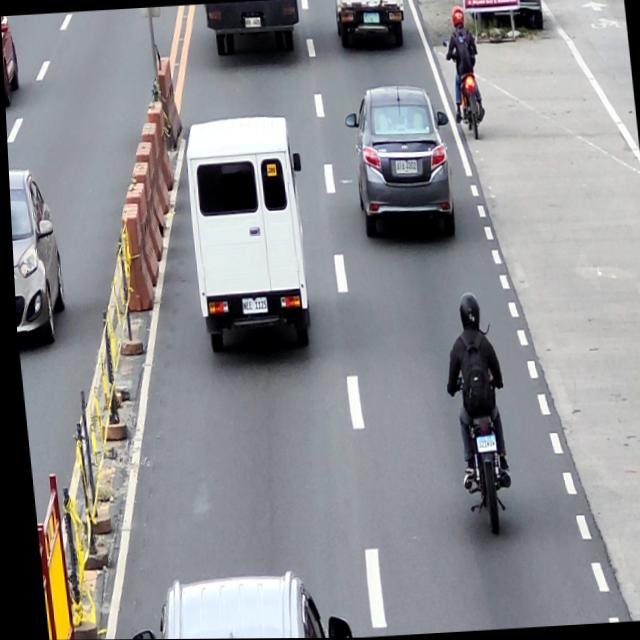Car: (178, 113, 317, 355), (339, 83, 458, 245), (113, 569, 346, 639), (7, 166, 68, 349), (332, 0, 407, 49), (1, 16, 22, 111)
License-Plate: (238, 296, 265, 315), (471, 437, 493, 454), (393, 160, 416, 174), (363, 12, 381, 25), (244, 16, 262, 28)
Motorcycle: (446, 372, 511, 538), (442, 37, 486, 142)
Truck: (203, 0, 302, 56)
